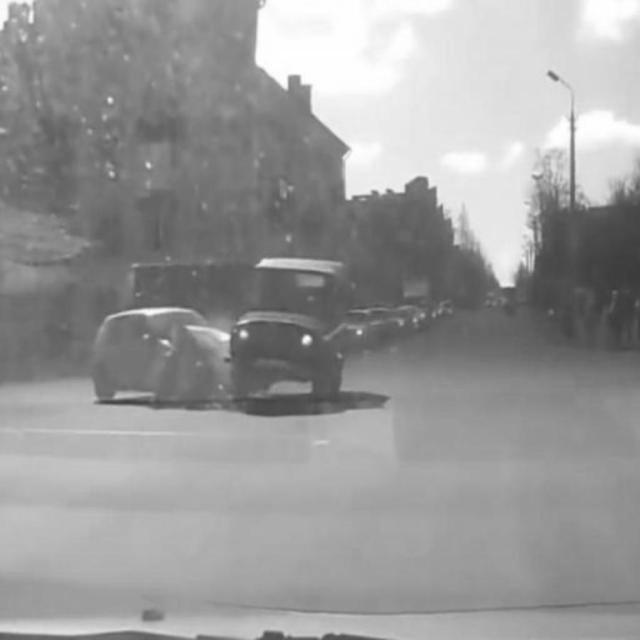accident: (93, 258, 346, 406)
